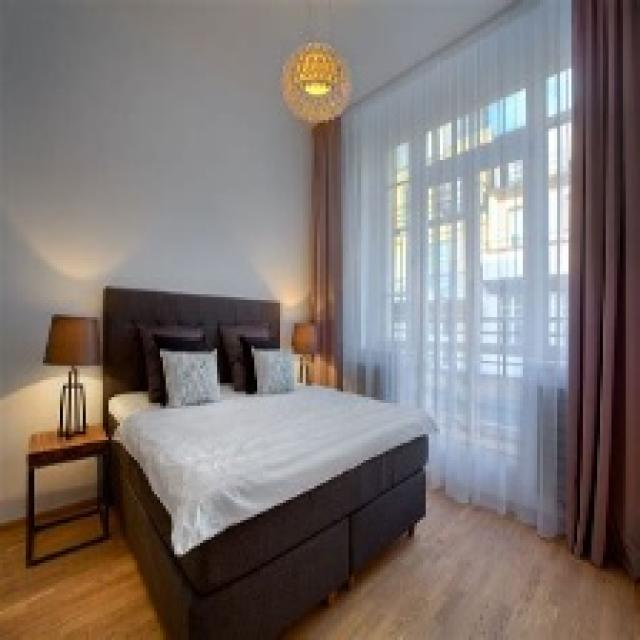Bed: (100, 283, 437, 637)
